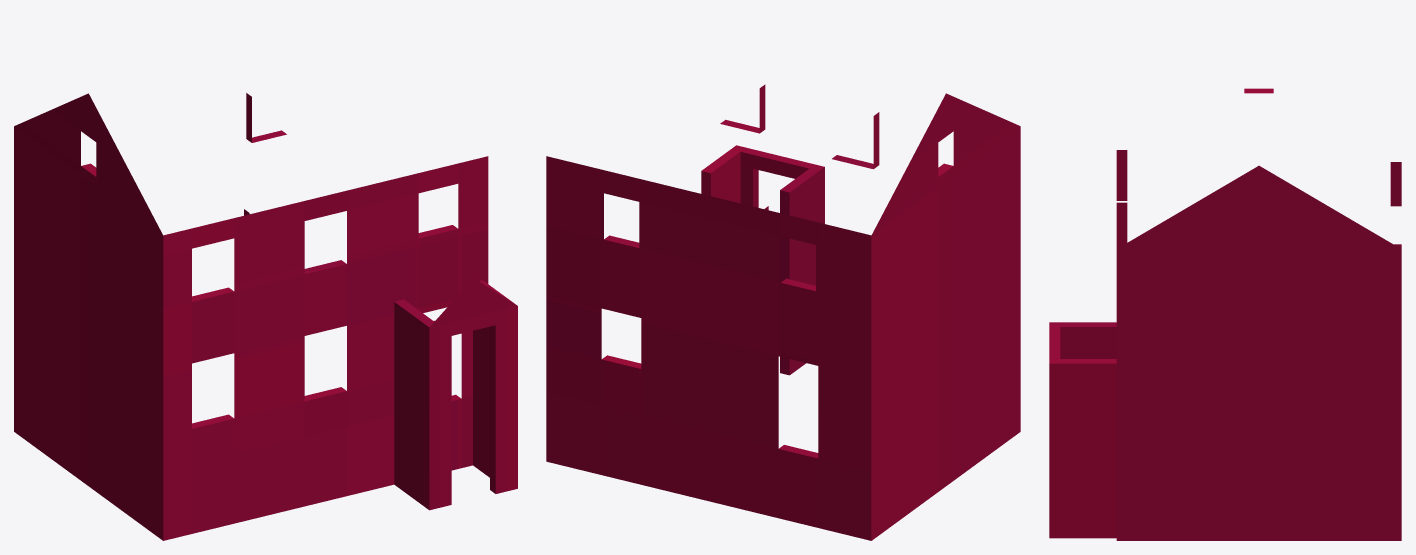
The model's file is SM_Bld_069_Masonry.glb.
3 renders of one model, left to right at view 1: azimuth 30°, elevation 25°; view 2: azimuth 150°, elevation 25°; view 3: azimuth 270°, elevation 25°, orthographic. The views are drawn at different scales.
Visible parts, largest first — view 1: SM_Bld_069_Masonry; view 2: SM_Bld_069_Masonry; view 3: SM_Bld_069_Masonry.
Part boxes in pixels (box(x1,y1,x2,y2)): SM_Bld_069_Masonry: box(14, 93, 517, 540); SM_Bld_069_Masonry: box(546, 84, 1020, 540); SM_Bld_069_Masonry: box(1049, 88, 1401, 540).
Size of the model in its own units: 7.35 by 8.49 by 7.22.
